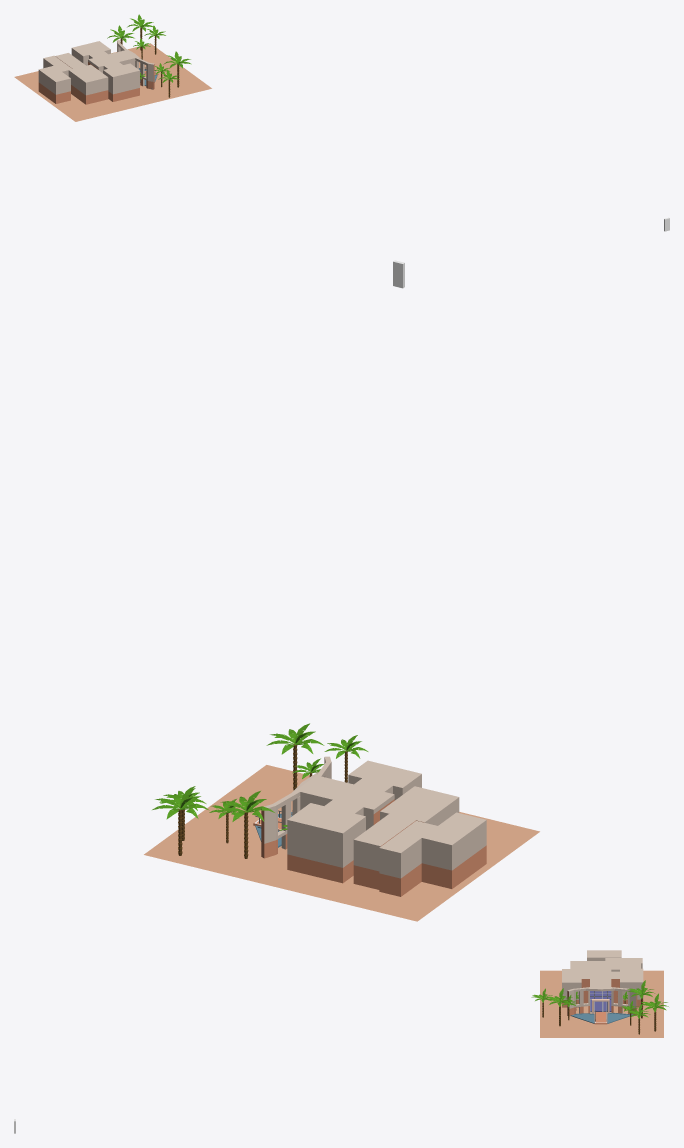
Rendered from CentroLeon.fbx.
The picture shows the model from 3 angles, top to bottom: view 1: azimuth 30°, elevation 25°; view 2: azimuth 150°, elevation 25°; view 3: azimuth 270°, elevation 25°; orthographic projection. The views are drawn at different scales.
Parts seen in each view (by area): view 1: Barandas; view 2: Barandas; view 3: Barandas.
Part boxes in pixels (x1=…): Barandas: x1=14, y1=14, x2=669, y2=231; Barandas: x1=144, y1=260, x2=539, y2=921; Barandas: x1=14, y1=950, x2=668, y2=1133.
Size of the model in its own units: 600 by 57.31 by 1014.
